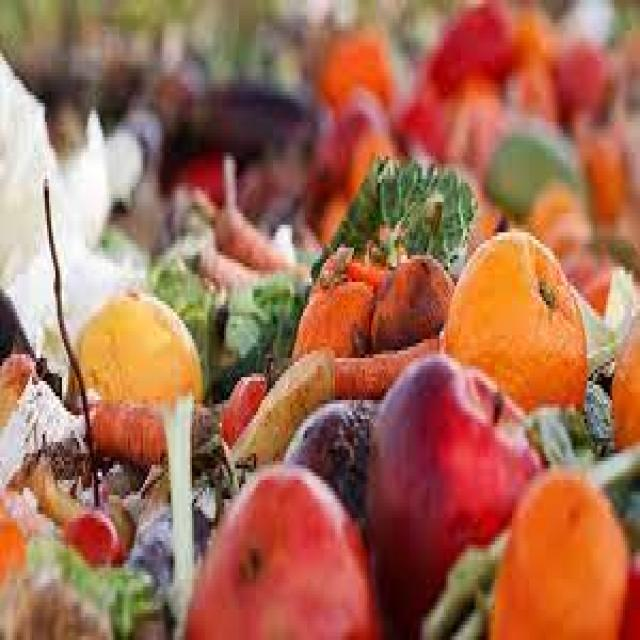Organik: (2, 80, 640, 640), (309, 86, 463, 413), (164, 434, 388, 640), (41, 212, 206, 462)
